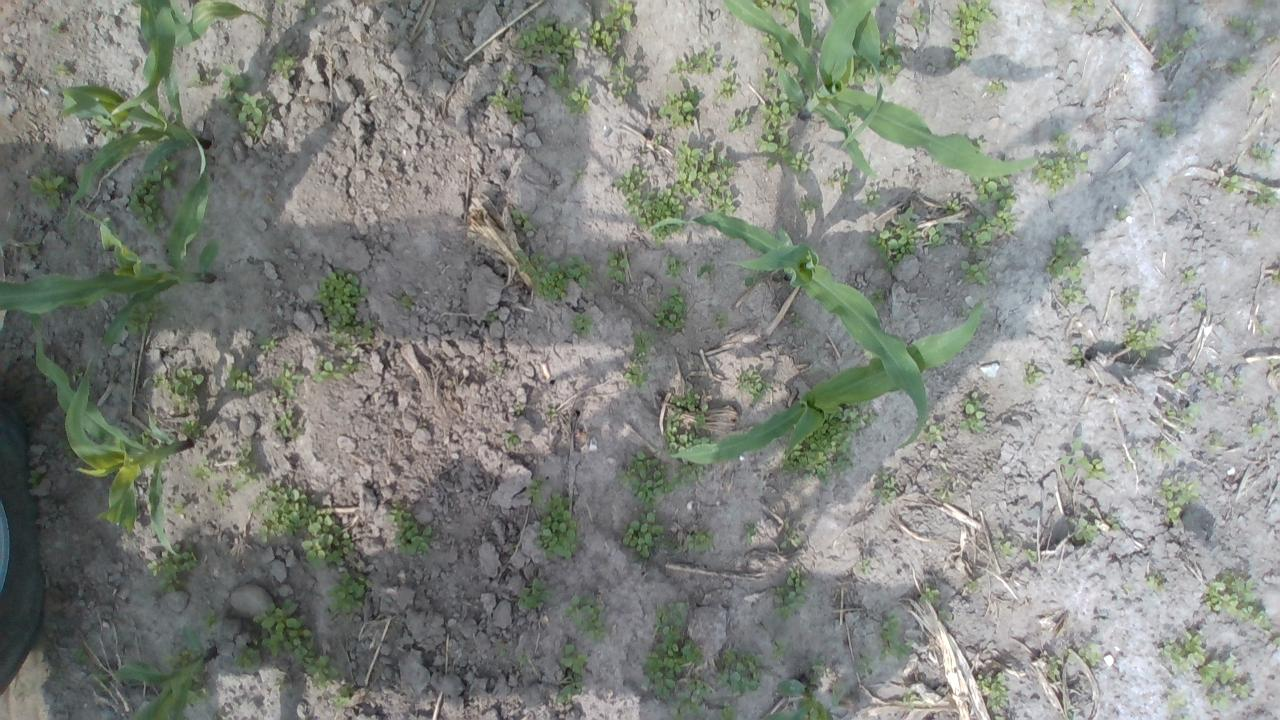Maize: (645, 206, 932, 452), (720, 0, 1039, 179), (676, 304, 986, 468), (0, 136, 220, 349), (29, 327, 190, 562), (58, 0, 179, 210), (108, 0, 266, 116), (112, 623, 215, 720), (769, 680, 832, 720)
Weeds: (250, 596, 340, 689), (642, 597, 704, 701), (313, 268, 374, 352), (674, 140, 736, 217), (248, 478, 316, 544), (1202, 570, 1272, 631), (216, 62, 272, 138), (127, 159, 180, 236), (802, 404, 877, 456), (865, 206, 921, 274), (624, 187, 688, 246), (514, 14, 585, 66), (756, 93, 800, 169), (619, 450, 672, 509), (950, 0, 997, 65), (514, 248, 568, 303), (536, 494, 581, 559), (302, 516, 356, 570), (382, 502, 434, 558), (588, 0, 636, 58), (146, 544, 199, 594), (620, 510, 670, 562), (152, 365, 206, 413), (782, 448, 851, 485), (1200, 656, 1248, 708), (714, 645, 760, 699), (544, 64, 592, 115), (661, 415, 714, 459), (1032, 152, 1088, 192), (1157, 478, 1200, 526), (125, 295, 174, 337), (646, 287, 688, 336), (328, 571, 373, 616), (771, 566, 809, 619), (1045, 233, 1086, 282), (1161, 630, 1205, 674), (1060, 438, 1106, 480), (564, 595, 605, 641), (29, 166, 70, 211), (164, 624, 203, 671), (658, 86, 699, 130), (227, 443, 264, 491), (672, 680, 716, 720), (1122, 319, 1161, 360), (970, 174, 1016, 208), (487, 87, 528, 125), (881, 609, 912, 658), (670, 48, 716, 80), (734, 369, 773, 406), (974, 670, 1010, 710), (879, 33, 904, 85), (314, 354, 357, 384), (960, 214, 991, 254), (518, 578, 554, 612), (272, 363, 304, 400), (94, 114, 133, 144), (959, 391, 986, 434), (762, 31, 788, 72), (608, 56, 634, 96), (223, 366, 256, 397), (614, 164, 649, 192), (674, 460, 706, 490), (1248, 181, 1280, 210), (958, 258, 990, 287), (560, 644, 588, 677), (269, 46, 295, 80), (565, 254, 591, 288), (1071, 514, 1099, 545), (630, 330, 656, 363), (606, 249, 630, 284), (622, 362, 650, 392), (870, 472, 896, 504), (685, 528, 716, 554), (556, 677, 584, 705), (1078, 640, 1106, 667), (1230, 14, 1264, 36), (329, 680, 353, 710), (670, 389, 700, 412), (992, 210, 1016, 238), (273, 409, 296, 438), (234, 645, 260, 670), (662, 255, 686, 282), (1118, 288, 1141, 316), (569, 310, 593, 336), (1218, 172, 1246, 194), (1157, 40, 1181, 65), (510, 209, 536, 232), (256, 333, 284, 354), (827, 172, 856, 192), (1230, 56, 1256, 78), (523, 478, 544, 505), (775, 0, 798, 24), (853, 59, 876, 83), (190, 455, 212, 480), (180, 419, 208, 438), (921, 418, 942, 443), (185, 70, 212, 89), (1153, 441, 1177, 462), (200, 611, 224, 632), (1250, 82, 1271, 105), (789, 151, 809, 175), (1068, 0, 1094, 18), (927, 222, 945, 248), (1252, 142, 1275, 162), (862, 184, 881, 208), (799, 196, 821, 216), (718, 76, 738, 98), (729, 111, 750, 131), (1053, 127, 1072, 149), (807, 660, 826, 682), (1178, 28, 1198, 48), (499, 68, 519, 88), (49, 62, 74, 78), (1181, 403, 1199, 425), (911, 8, 928, 31), (1206, 368, 1223, 391), (1061, 288, 1085, 304), (1023, 365, 1041, 386), (759, 69, 777, 90), (902, 689, 919, 711), (1044, 655, 1060, 678), (942, 197, 961, 216), (868, 286, 886, 306), (1206, 433, 1224, 453), (1156, 118, 1176, 136), (696, 260, 716, 278), (781, 532, 801, 550), (920, 583, 940, 601), (984, 80, 1006, 96), (744, 522, 759, 545), (211, 486, 228, 506), (998, 539, 1016, 557), (71, 646, 90, 663), (966, 574, 982, 594), (1174, 371, 1190, 391), (972, 136, 992, 152), (1071, 344, 1084, 368), (302, 5, 320, 22), (504, 431, 522, 448), (770, 639, 786, 658), (1105, 512, 1121, 530), (1147, 576, 1165, 592), (1181, 269, 1197, 287), (398, 294, 414, 312), (859, 652, 872, 673), (1248, 421, 1264, 438), (1254, 321, 1272, 336), (1192, 295, 1206, 314), (810, 30, 824, 49), (30, 468, 44, 487), (714, 312, 730, 328), (720, 704, 736, 720), (1247, 223, 1264, 238), (1168, 696, 1186, 710), (938, 606, 952, 624), (94, 670, 108, 688), (489, 360, 504, 376), (1265, 32, 1280, 48), (1146, 26, 1160, 43), (792, 312, 805, 330), (95, 266, 114, 278), (51, 19, 66, 34), (1114, 207, 1130, 221), (128, 432, 144, 446), (856, 558, 870, 574), (69, 210, 78, 234), (843, 110, 858, 124), (940, 484, 953, 500), (1266, 404, 1280, 418), (173, 499, 187, 513), (1230, 374, 1242, 390), (1165, 401, 1176, 418), (1182, 88, 1194, 102), (484, 310, 498, 322), (1024, 546, 1036, 560), (1049, 0, 1065, 10), (754, 0, 774, 8), (723, 60, 736, 72), (516, 653, 528, 666), (1269, 269, 1280, 283), (832, 682, 842, 697), (1126, 446, 1140, 456), (138, 138, 155, 146), (30, 240, 42, 251), (744, 276, 754, 289), (546, 407, 558, 417), (1252, 0, 1264, 10), (73, 366, 85, 376), (654, 134, 663, 146), (498, 648, 508, 658), (574, 168, 582, 180), (1273, 637, 1280, 649), (992, 714, 1006, 720), (0, 240, 5, 256), (275, 0, 285, 7), (1125, 463, 1133, 470)
